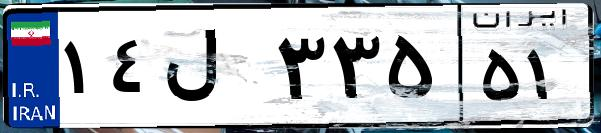1: (57, 26, 110, 100), (525, 38, 570, 115)
3: (270, 28, 330, 110), (330, 28, 385, 110)
4: (110, 28, 158, 98)
5: (385, 28, 445, 110), (475, 38, 525, 113)
ل: (158, 20, 270, 120)
